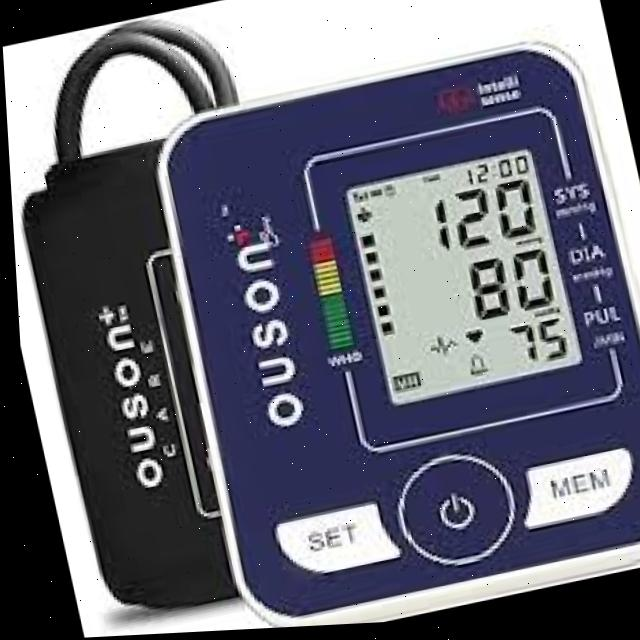dia: (451, 242, 564, 331)
pul: (505, 314, 573, 385)
ssd: (338, 148, 580, 419)
sys: (420, 176, 548, 264)
